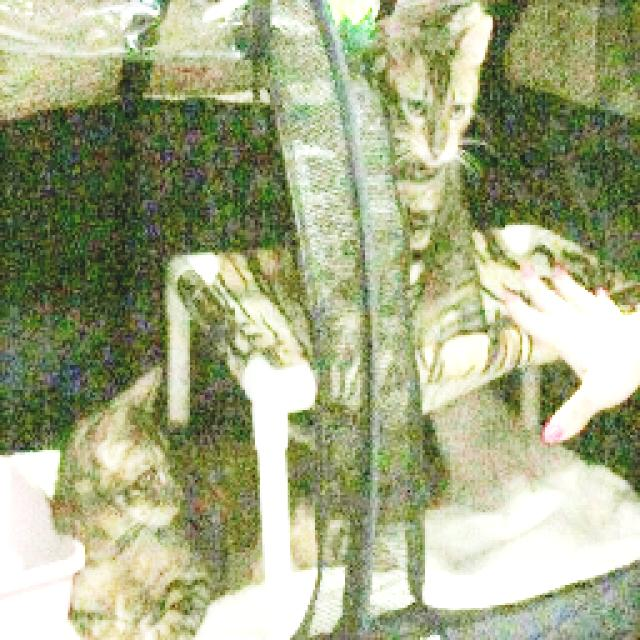cat: (32, 352, 374, 632), (314, 2, 520, 320)
